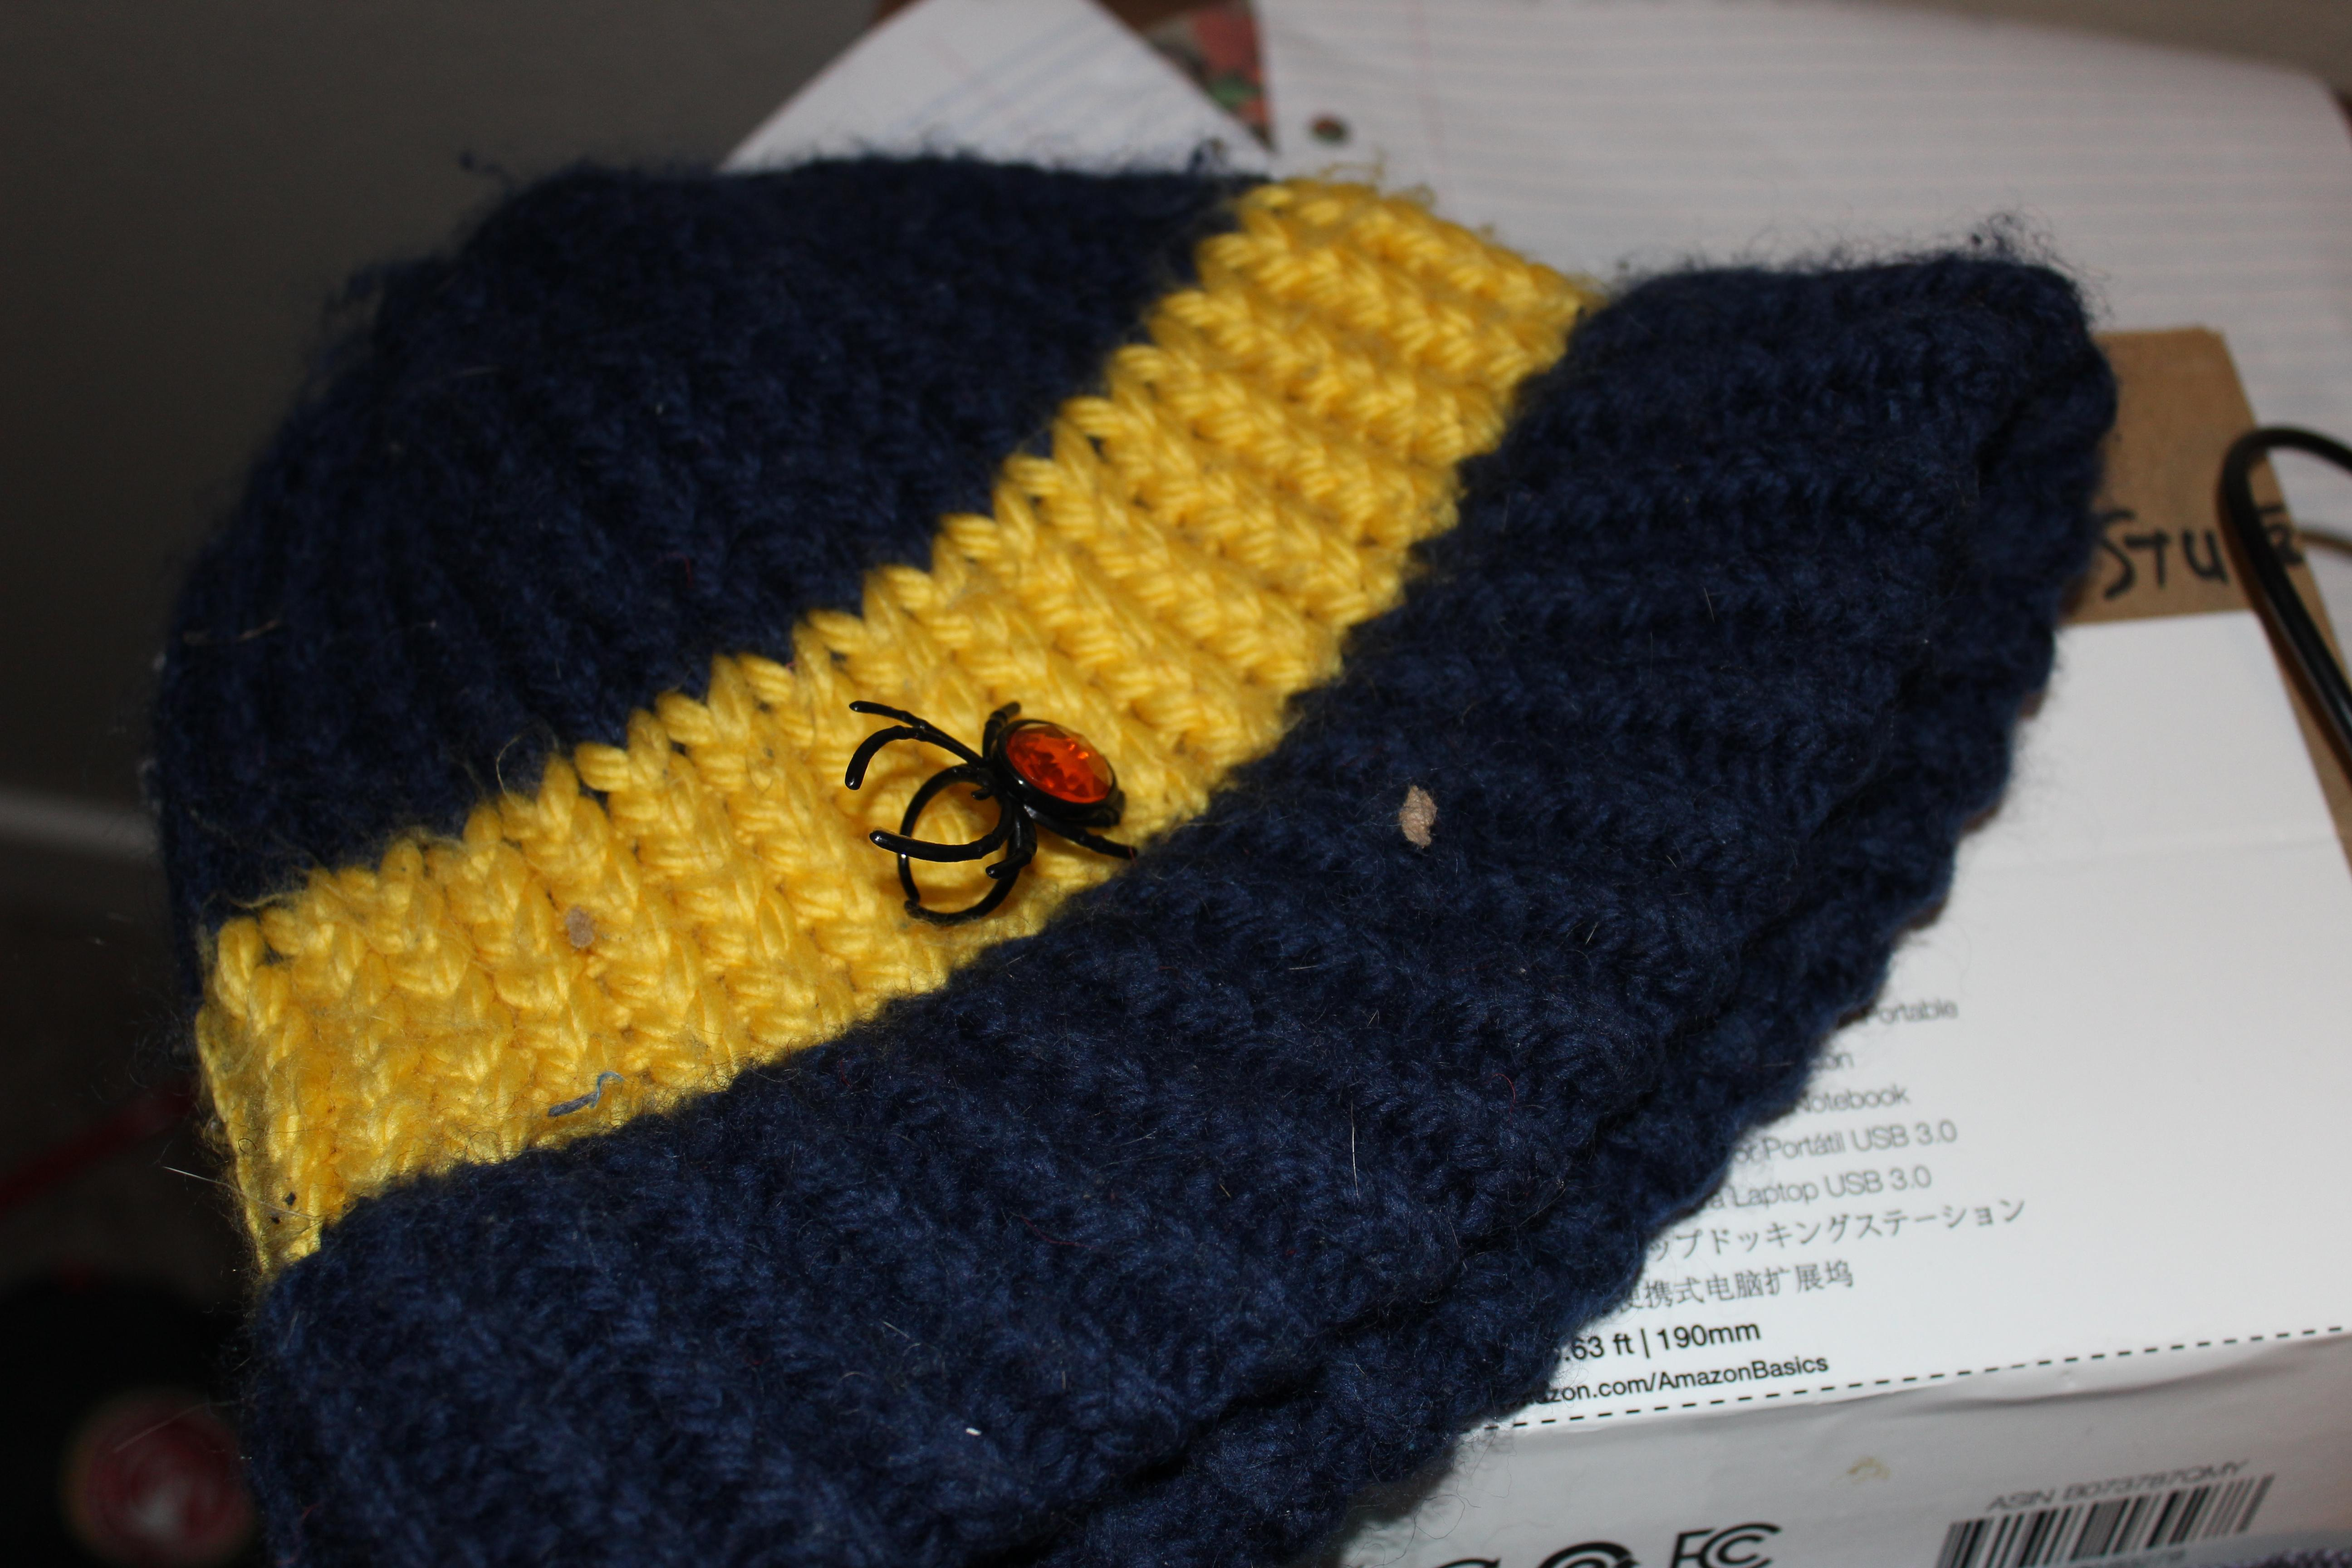spiderRing: (824, 669, 1178, 947)
